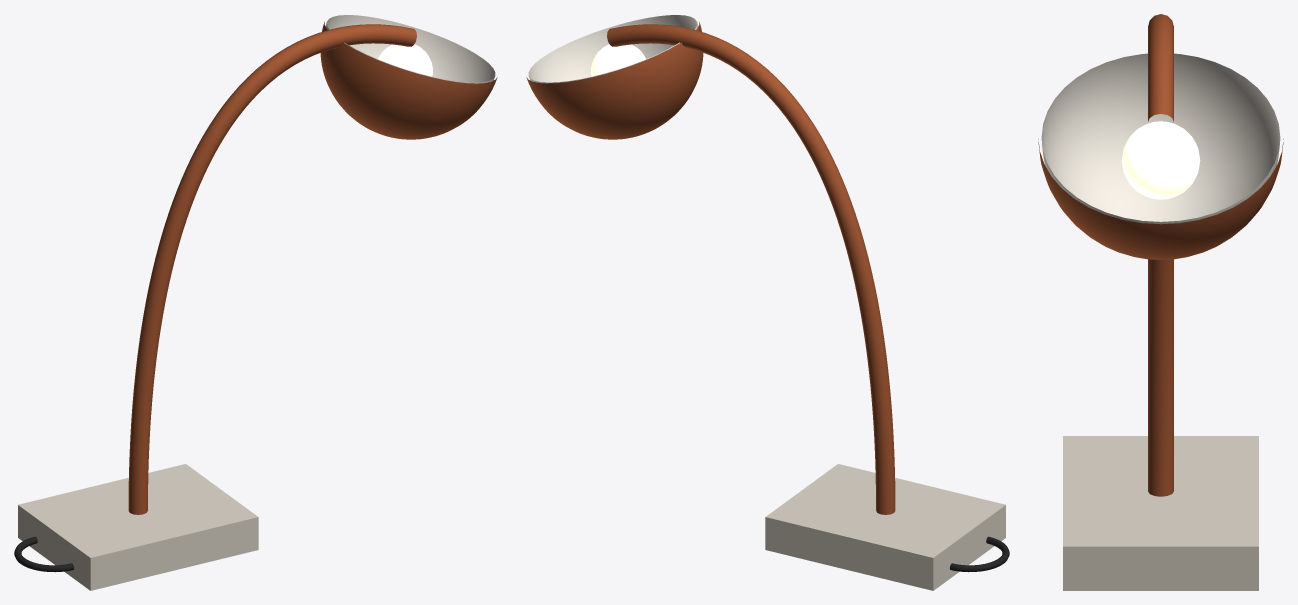
The model's file is arc.glb.
3 views of the same model, side by side, from view 1: azimuth 30°, elevation 25°; view 2: azimuth 150°, elevation 25°; view 3: azimuth 270°, elevation 25° (orthographic). The views are drawn at different scales.
Parts seen in each view (by area): view 1: Base, Arc, Dome, Dome inside, Bulb, Cable; view 2: Base, Arc, Dome, Dome inside, Bulb, Cable; view 3: Base, Dome inside, Arc, Dome, Bulb.
Part boxes in pixels (left/top/right/bottom): Base: left=18, top=464, right=258, bottom=590; Arc: left=128, top=24, right=416, bottom=514; Dome: left=320, top=21, right=497, bottom=139; Dome inside: left=325, top=15, right=495, bottom=83; Bulb: left=378, top=44, right=432, bottom=76; Cable: left=14, top=536, right=73, bottom=572; Base: left=765, top=464, right=1005, bottom=590; Arc: left=607, top=24, right=895, bottom=514; Dome: left=526, top=21, right=703, bottom=139; Dome inside: left=528, top=15, right=698, bottom=83; Bulb: left=591, top=44, right=645, bottom=76; Cable: left=950, top=536, right=1009, bottom=572; Base: left=1063, top=436, right=1258, bottom=590; Dome inside: left=1041, top=53, right=1280, bottom=224; Arc: left=1148, top=14, right=1173, bottom=496; Dome: left=1038, top=139, right=1283, bottom=259; Bulb: left=1121, top=121, right=1200, bottom=199.
Bounding box in the file's own units: 0.4435 × 0.4244 × 0.15.
